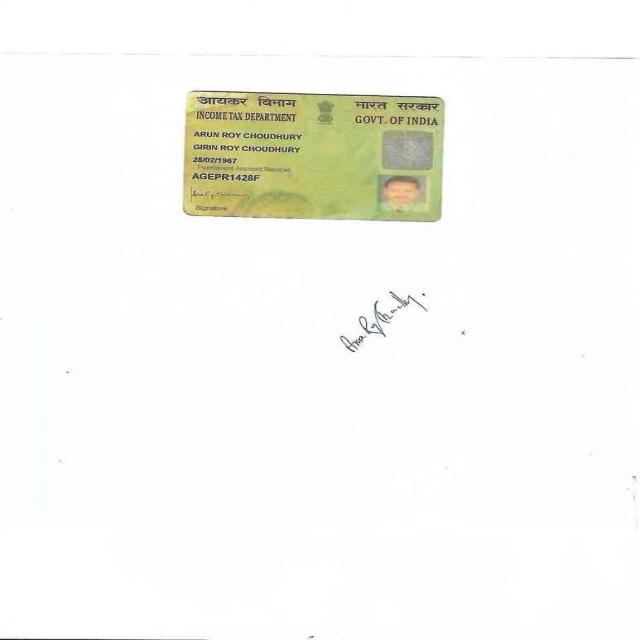pan_card: (181, 90, 447, 219)
